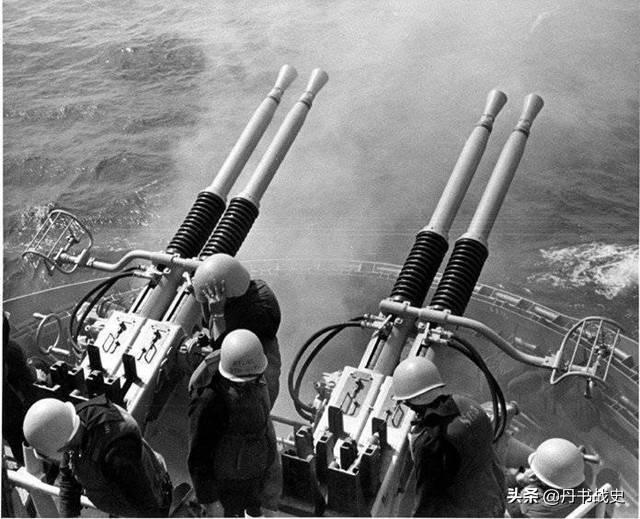MIL_SPG: (22, 65, 328, 427), (280, 310, 449, 516), (389, 91, 506, 308), (431, 94, 542, 316)
